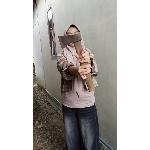Kapak: (56, 30, 98, 94)
